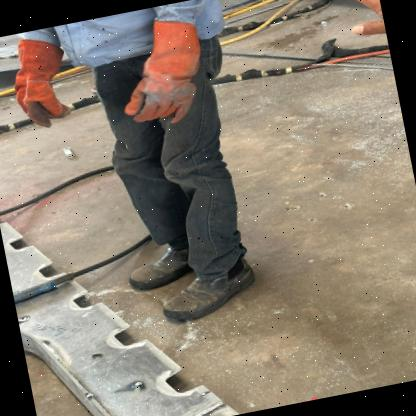bota: (152, 254, 268, 326), (115, 242, 200, 296)
